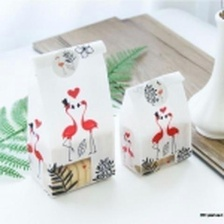snack: (20, 33, 121, 203), (114, 65, 199, 182)
